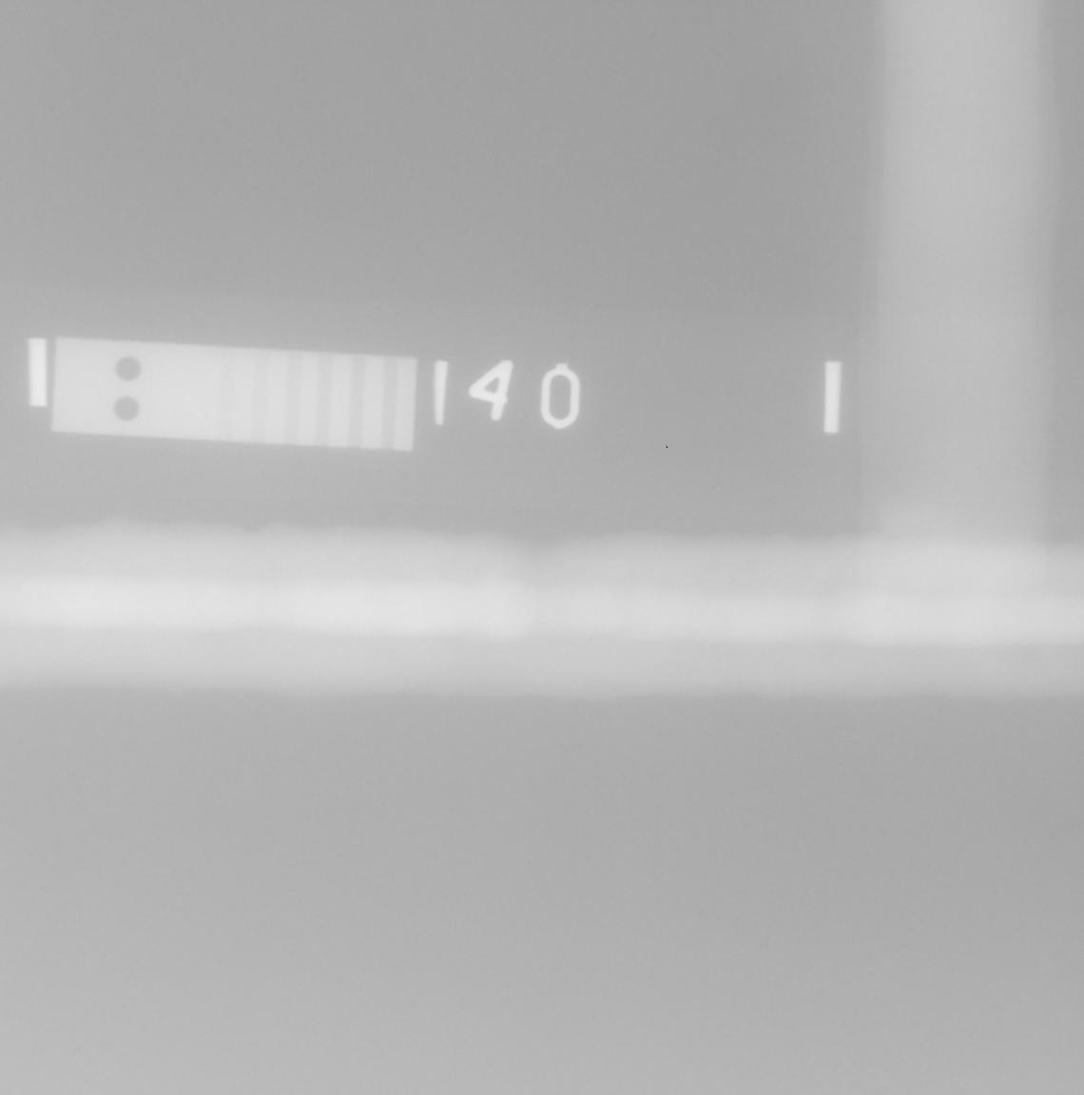Pore/Porosity: (1042, 671, 1050, 679)
Reference Standard 2: (51, 337, 418, 451)
